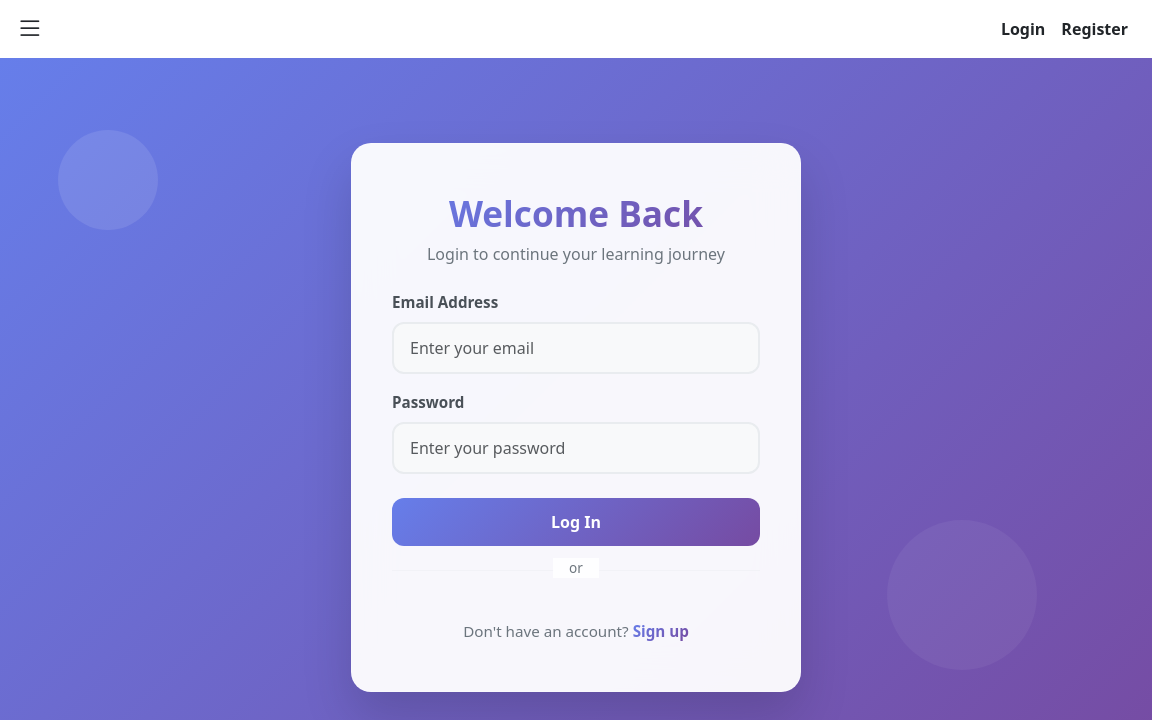
Scenario: Login Component › Form Validation › should show error when password is empty but email is filled
Type "test@example.com" into the field with placeholder "Enter your email" at (576, 348), box [392,322,760,374]
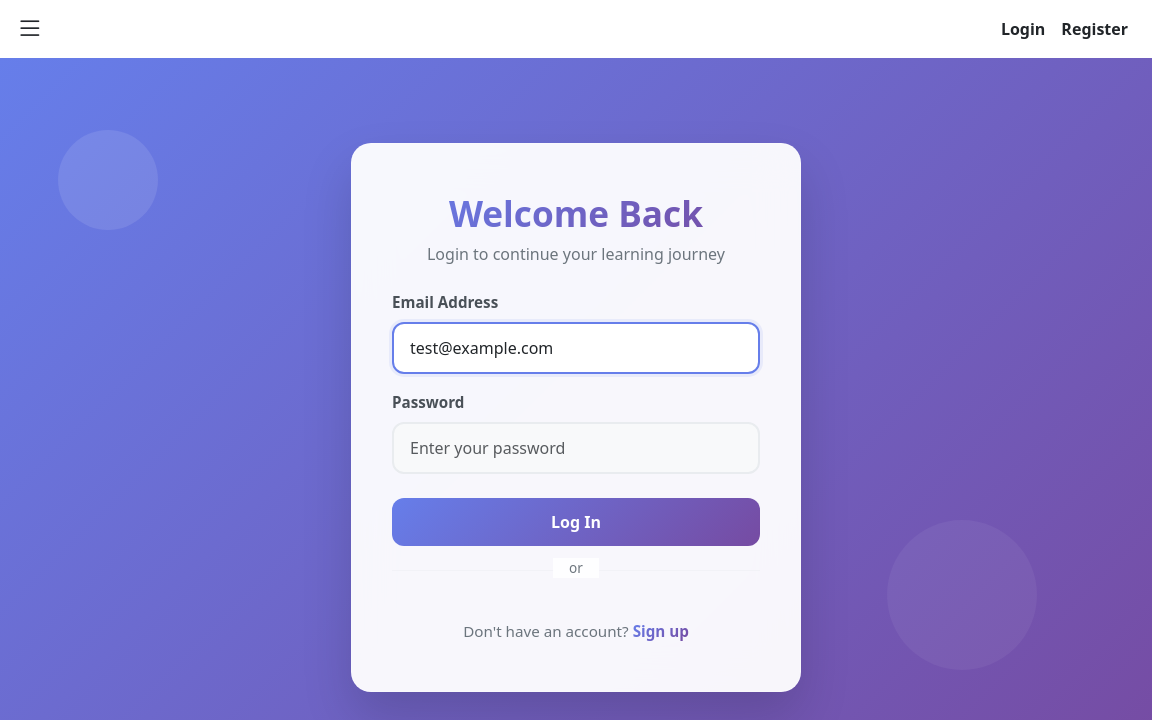
Submit the form, box [392,290,760,546]
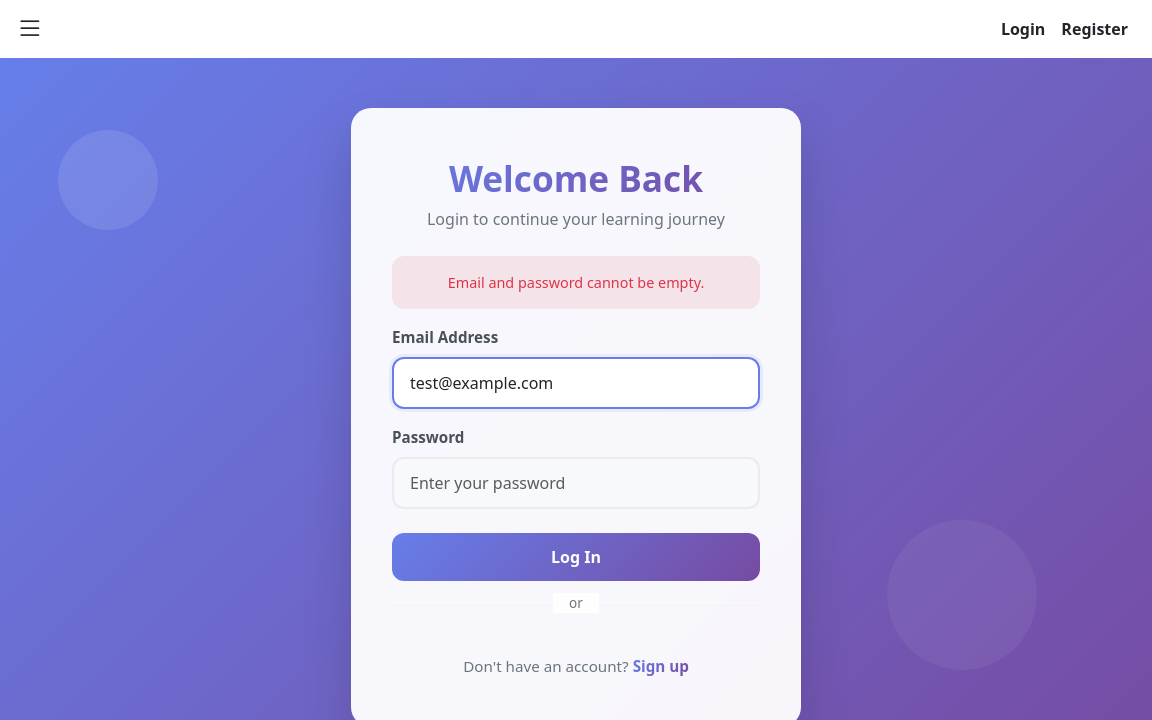
Now the text "Email and password cannot be empty." is shown, box [392,256,760,309]
